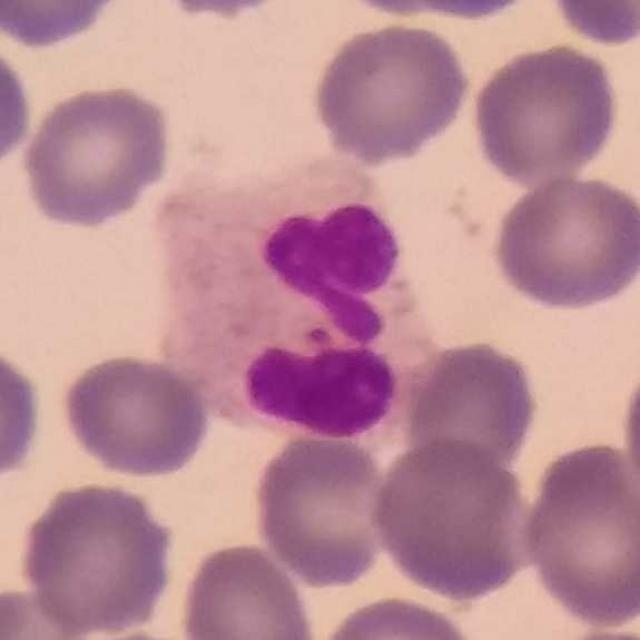Neutrophil: (141, 150, 439, 439)
RBC: (366, 433, 538, 603), (19, 477, 182, 638), (308, 19, 473, 166), (515, 438, 640, 631), (17, 79, 176, 230), (248, 428, 396, 590), (466, 40, 624, 187), (487, 170, 640, 313), (57, 349, 215, 481), (401, 338, 542, 478), (175, 538, 319, 640), (315, 592, 484, 640), (0, 339, 48, 490), (0, 0, 129, 52), (0, 583, 99, 640), (0, 30, 36, 178), (334, 0, 551, 24), (545, 0, 640, 49), (131, 0, 308, 24), (616, 349, 640, 515)
